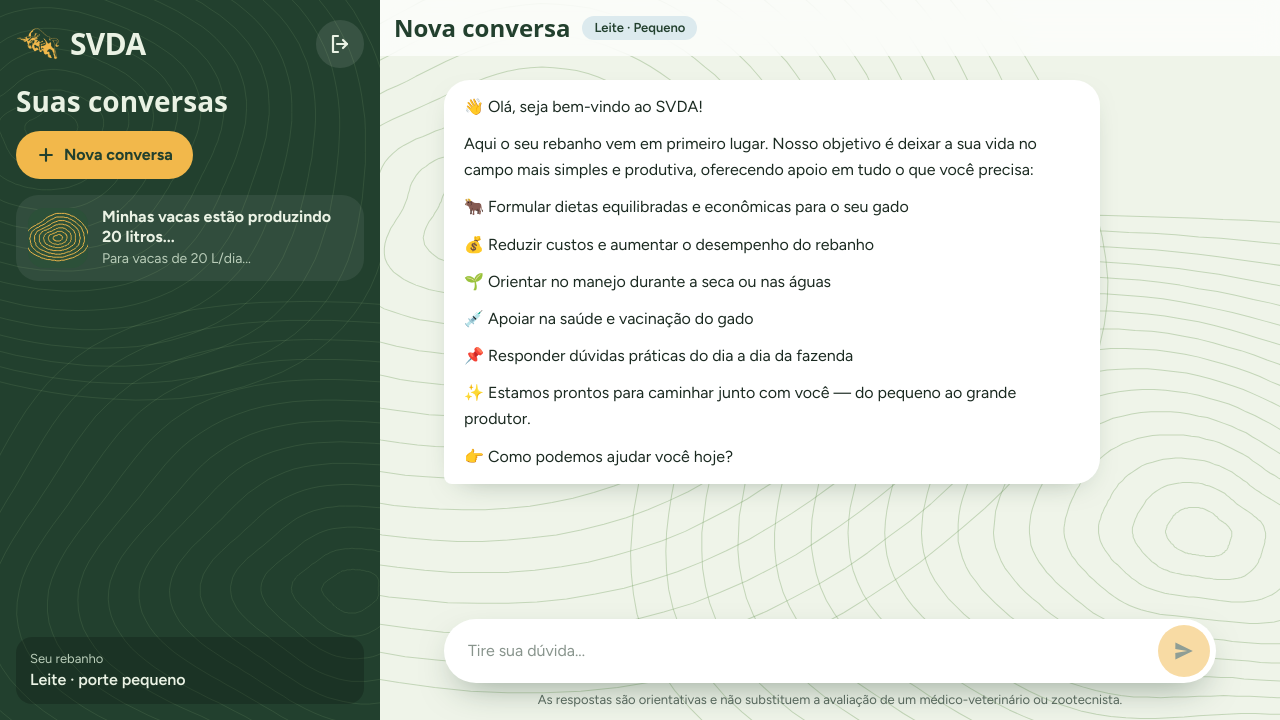
Scenario: chatting › warns when the answer was cut by the size limit
Type "Dieta completa" into the field labelled "sua dúvida". click: point(801, 651)
box: [452,627,1150,675]
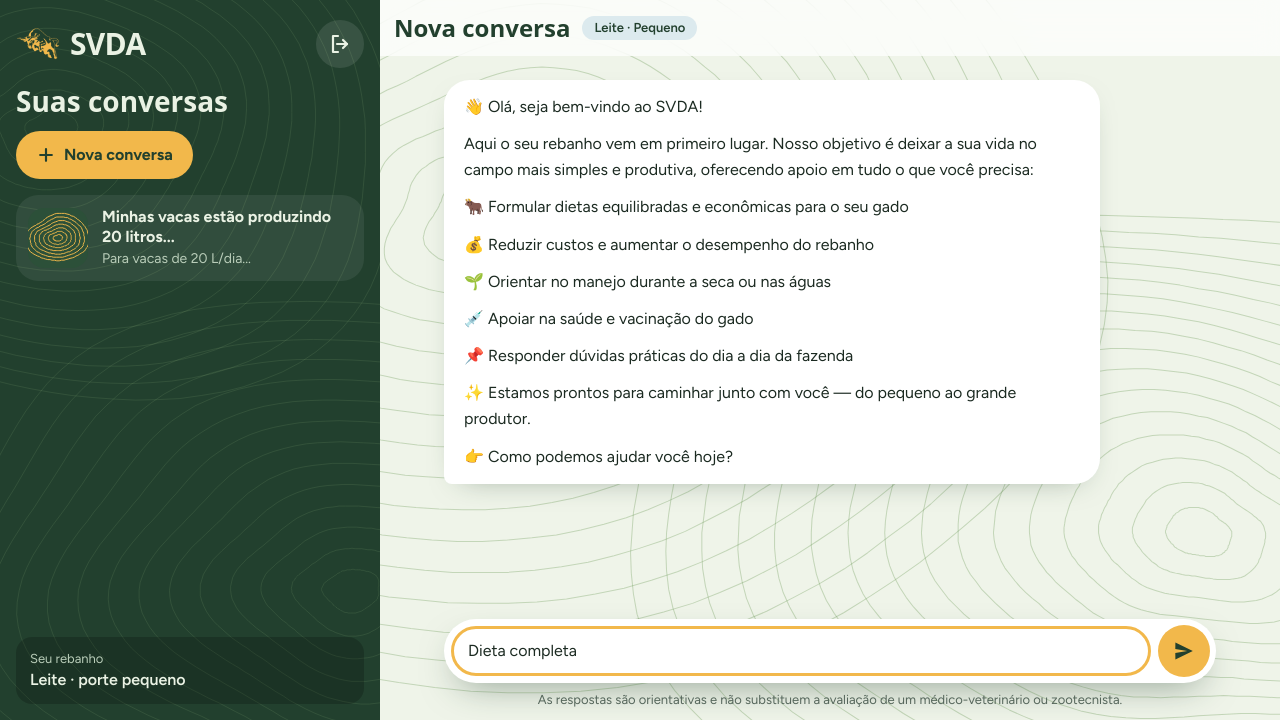
Click the button named "Enviar". click: point(1184, 651)
box: [1158,625,1210,677]
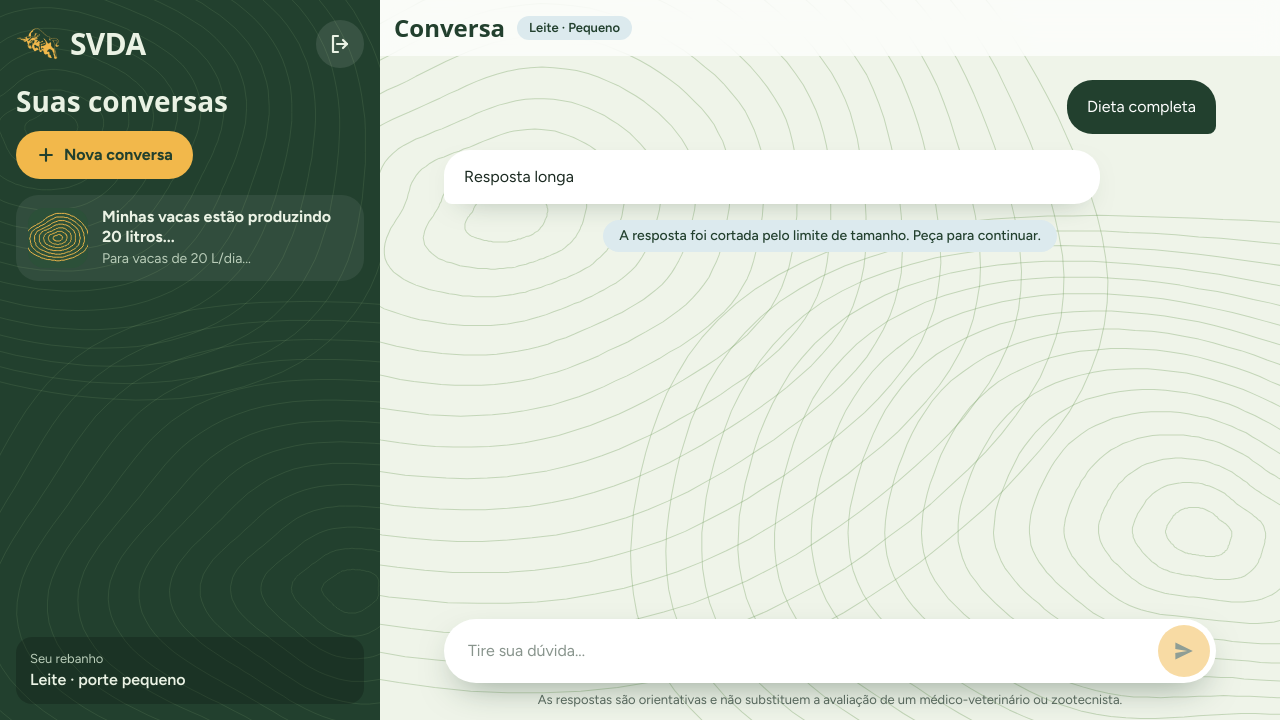
Check: the text "A resposta foi cortada pelo limite de tamanho. Peça para continuar." is shown, box [603,220,1057,252]
